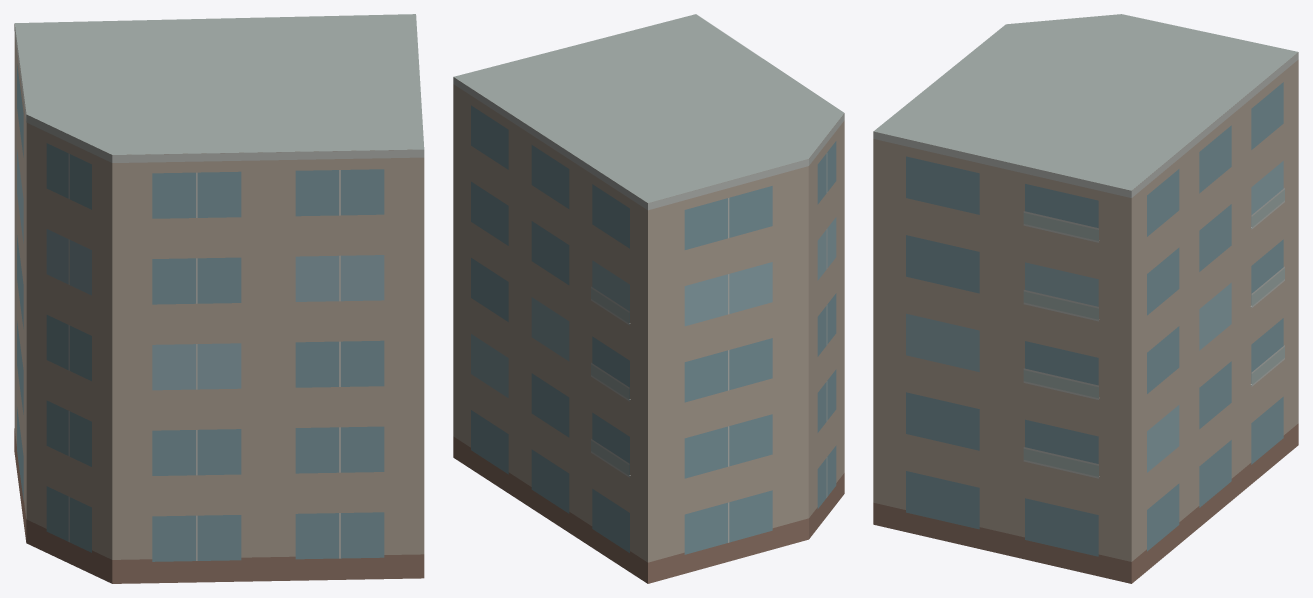
File: survey-upis-32801773.glb
3 views of the same model, side by side, from view 1: azimuth 30°, elevation 25°; view 2: azimuth 150°, elevation 25°; view 3: azimuth 270°, elevation 25° (orthographic). The views are drawn at different scales.
Visible parts, largest first — view 1: survey-upis-32801773.tmp; view 2: survey-upis-32801773.tmp; view 3: survey-upis-32801773.tmp.
Boxes of the visible parts, x1,y1,x2,y2 form: survey-upis-32801773.tmp: [14, 14, 424, 583]; survey-upis-32801773.tmp: [453, 14, 844, 583]; survey-upis-32801773.tmp: [873, 14, 1298, 583].
Bounding box in the file's own units: 12.49 × 12.95 × 12.7.
